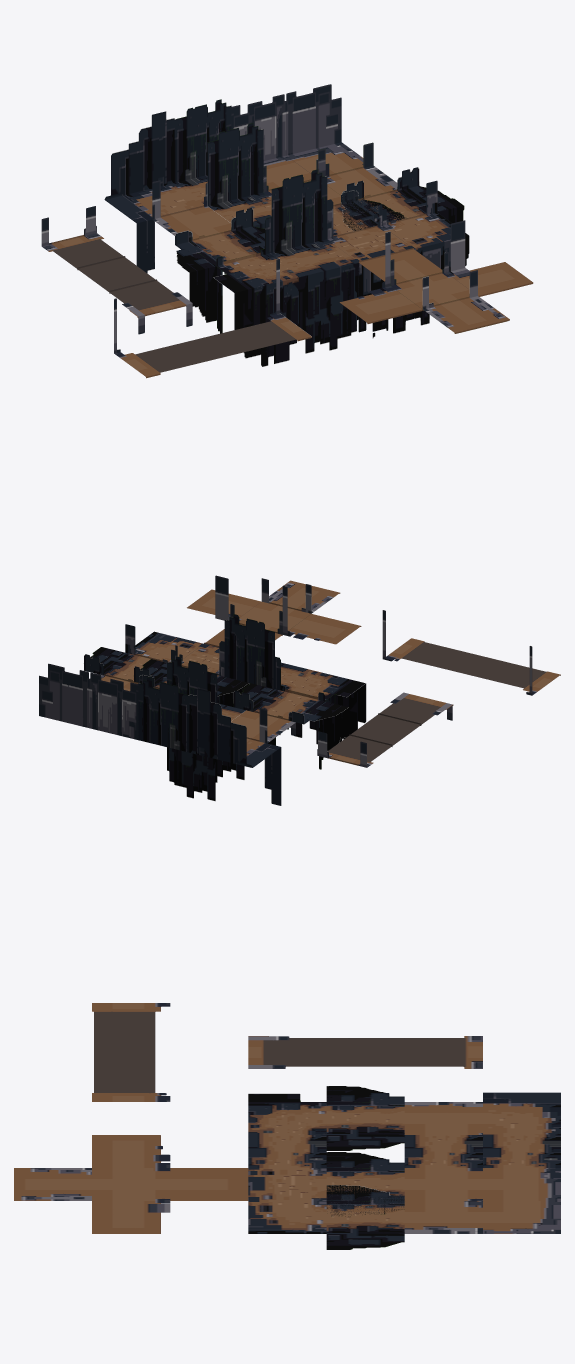
The model's file is back_narrowpassage01.FBX.
The picture shows the model from 3 angles, top to bottom: view 1: azimuth 30°, elevation 25°; view 2: azimuth 150°, elevation 25°; view 3: azimuth 270°, elevation 25°; orthographic projection. The views are drawn at different scales.
Parts seen in each view (by area): view 1: cave_narrowWE1, cave_turnSE, cave_turnNE, cave_narrowWE2, cave_narrowNS1, cave_turnSW, cave_narrowWE3, cave_tturnWEN, cave_tturnWES, cave_turnNW, cave_narrowNS3, cave_deadN (+13 smaller); view 2: cave_narrowWE3, cave_turnSE, cave_narrowWE1, cave_narrowNS1, cave_turnNE, cave_tturnWES, cave_turnSW, cave_narrowWE2, cave_turnNW, cave_deadE, cave_narrowNS3, cave_deadN (+11 smaller); view 3: cave_narrowNS1, cave_narrowNS3, cave_turnSE, cave_narrowNS2, cave_turnNE, cave_narrowWE1, cave_tturnWEN, cave_turnNW, cave_tturnENS, cave_tturnWNS, cave_cross1, cave_narrowWE2 (+14 smaller).
Part boxes in pixels (x1,y1,x2,y2): cave_narrowWE1: (271,169,359,353); cave_turnSE: (104,111,203,273); cave_turnNE: (213,216,303,366); cave_narrowWE2: (207,123,271,228); cave_narrowNS1: (175,207,264,333); cave_turnSW: (286,84,363,174); cave_narrowWE3: (175,99,231,274); cave_tturnWEN: (327,199,413,338); cave_tturnWES: (231,94,311,189); cave_turnNW: (382,180,469,325); cave_narrowNS3: (341,167,464,230); cave_deadN: (422,270,509,333); cave_narrowWE3: (138,677,217,801); cave_turnSE: (188,688,281,805); cave_narrowWE1: (224,614,302,737); cave_narrowNS1: (233,683,348,769); cave_turnNE: (275,656,366,744); cave_tturnWES: (89,672,138,740); cave_turnSW: (39,663,88,727); cave_narrowWE2: (167,656,245,779); cave_turnNW: (125,624,203,662); cave_deadE: (282,585,361,644); cave_narrowNS3: (84,647,154,687); cave_deadN: (261,578,340,613); cave_narrowNS1: (326,1086,404,1150); cave_narrowNS3: (326,1185,404,1249); cave_turnSE: (483,1092,560,1134); cave_narrowNS2: (326,1152,404,1216); cave_turnNE: (248,1093,326,1134); cave_narrowWE1: (248,1135,326,1167); cave_tturnWEN: (248,1168,326,1200); cave_turnNW: (248,1201,326,1233); cave_tturnENS: (404,1102,482,1134); cave_tturnWNS: (404,1201,482,1233); cave_cross1: (404,1168,482,1200); cave_narrowWE2: (404,1135,482,1167).
Bounding box in the file's own units: 750 × 349 × 700.
